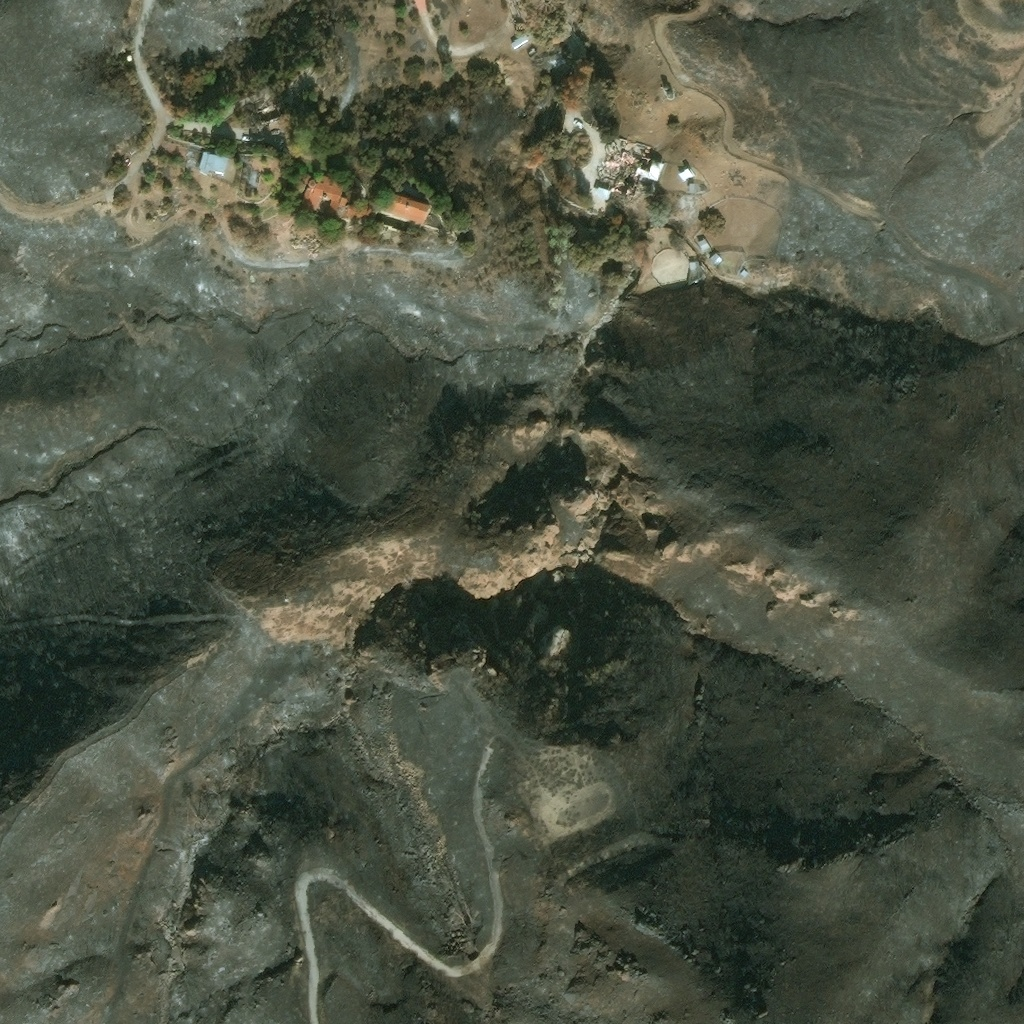0 no-damage: (301, 172, 357, 225), (378, 191, 430, 229), (256, 98, 290, 125), (199, 152, 229, 178), (689, 262, 709, 287), (514, 35, 528, 50), (680, 170, 693, 185), (711, 253, 724, 268), (698, 240, 711, 253), (741, 270, 749, 279), (689, 186, 695, 194)
3 destroyed: (599, 148, 664, 192), (612, 178, 635, 195)
